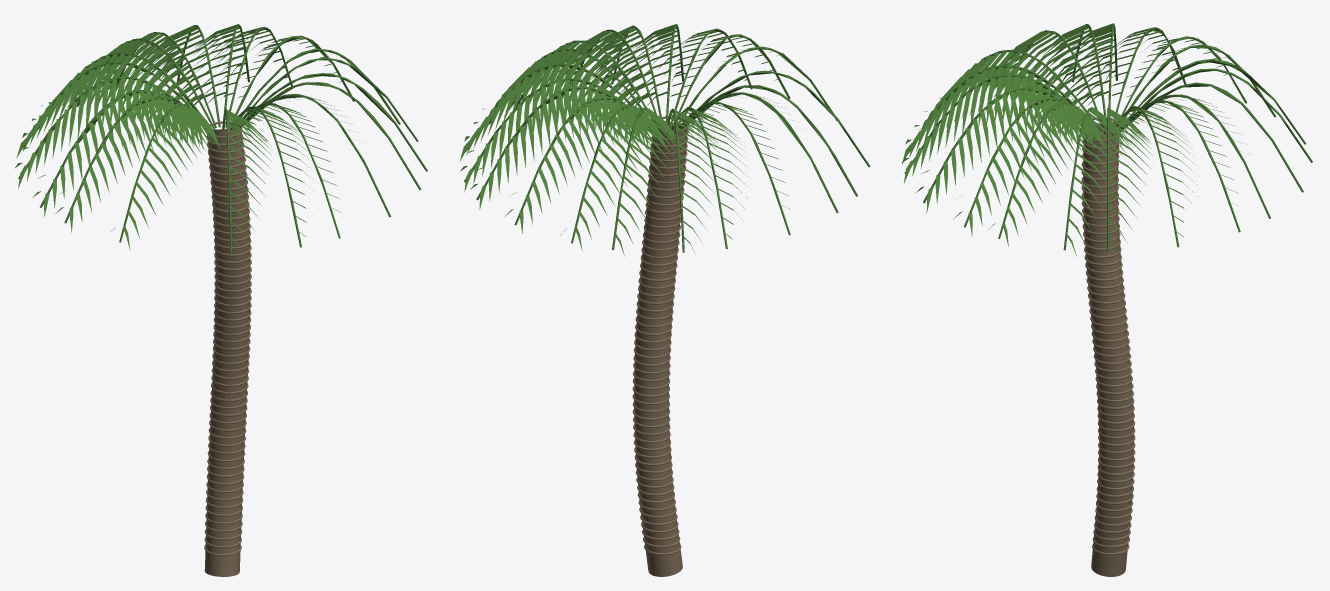
File: palm-lod.glb
3 views of the same model, side by side, from view 1: azimuth 30°, elevation 25°; view 2: azimuth 150°, elevation 25°; view 3: azimuth 270°, elevation 25° (orthographic).
Visible parts, largest first — view 1: CurvedTrunk, FrondStem.005, FrondStem.013, FrondStem.018, FrondStem.010, FrondStem.008, FrondStem, FrondStem.017; view 2: CurvedTrunk, FrondStem.017, FrondStem.004, FrondStem.012, FrondStem.007, FrondStem.015, FrondStem.009; view 3: CurvedTrunk, FrondStem.006, FrondStem.019, FrondStem.011, FrondStem.003, FrondStem.014, FrondStem.016.
Boxes of the visible parts, left/top/right/bottom form: CurvedTrunk: left=204, top=125, right=250, bottom=576; FrondStem.005: left=246, top=73, right=427, bottom=171; FrondStem.013: left=242, top=57, right=418, bottom=141; FrondStem.018: left=247, top=82, right=420, bottom=190; FrondStem.010: left=239, top=94, right=391, bottom=217; FrondStem.008: left=228, top=35, right=354, bottom=128; FrondStem: left=241, top=48, right=400, bottom=124; FrondStem.017: left=40, top=90, right=200, bottom=207; CurvedTrunk: left=634, top=120, right=687, bottom=576; FrondStem.017: left=680, top=92, right=838, bottom=213; FrondStem.004: left=689, top=85, right=857, bottom=196; FrondStem.012: left=686, top=70, right=870, bottom=167; FrondStem.007: left=677, top=46, right=836, bottom=125; FrondStem.015: left=672, top=34, right=790, bottom=125; FrondStem.009: left=674, top=101, right=790, bottom=235; CurvedTrunk: left=1083, top=121, right=1134, bottom=576; FrondStem.006: left=1120, top=59, right=1306, bottom=144; FrondStem.019: left=1136, top=68, right=1312, bottom=162; FrondStem.011: left=1151, top=82, right=1303, bottom=192; FrondStem.003: left=1120, top=94, right=1270, bottom=218; FrondStem.014: left=1121, top=44, right=1276, bottom=123; FrondStem.016: left=1115, top=100, right=1240, bottom=232.
Size of the model in its own units: 4.51 by 6.06 by 4.51.
